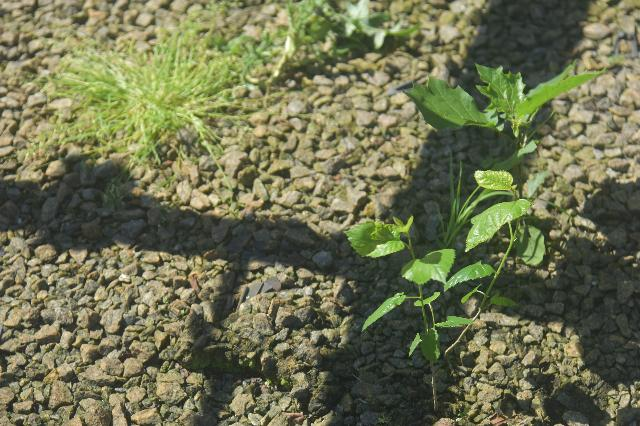MalezaMontesDelPlata: (400, 54, 614, 271), (21, 26, 260, 211), (337, 216, 506, 410), (269, 0, 423, 76)
